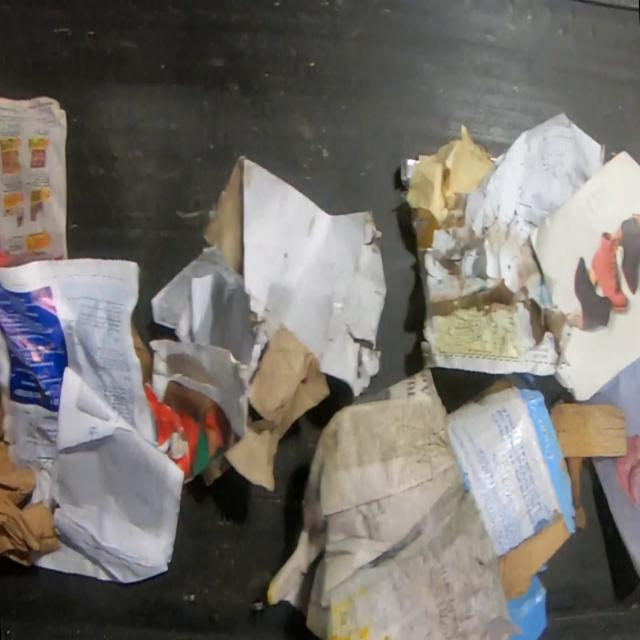cardboard: (199, 154, 390, 493), (445, 373, 587, 639), (132, 320, 262, 488), (0, 389, 63, 557), (547, 398, 630, 459)
metal: (399, 158, 421, 188)
